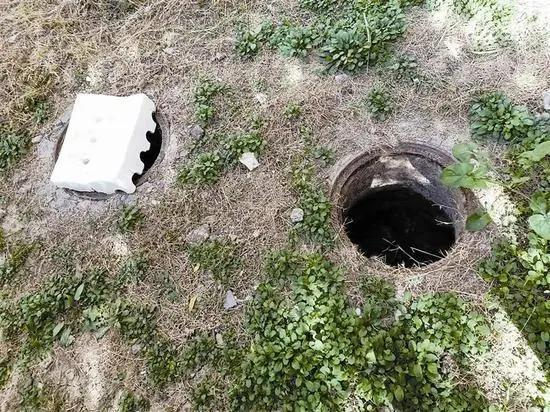wellcover: (316, 133, 486, 275), (46, 93, 172, 203)
